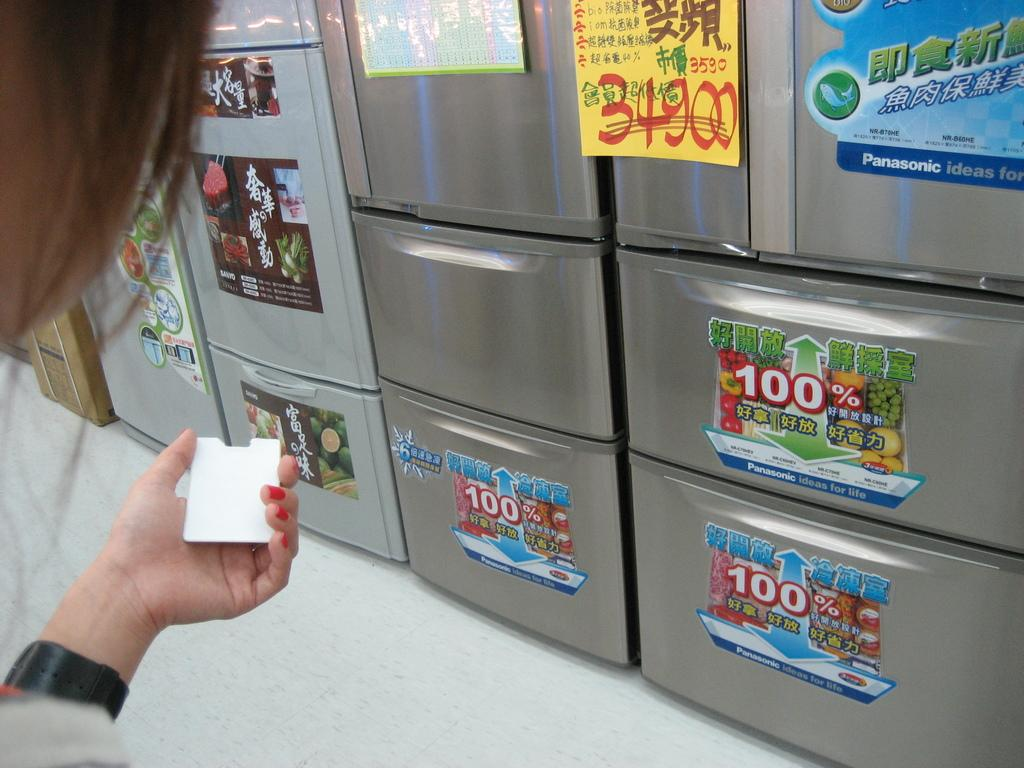handle: (684, 484, 970, 554), (707, 280, 952, 338), (364, 218, 565, 276), (416, 398, 570, 454), (230, 362, 328, 404)
